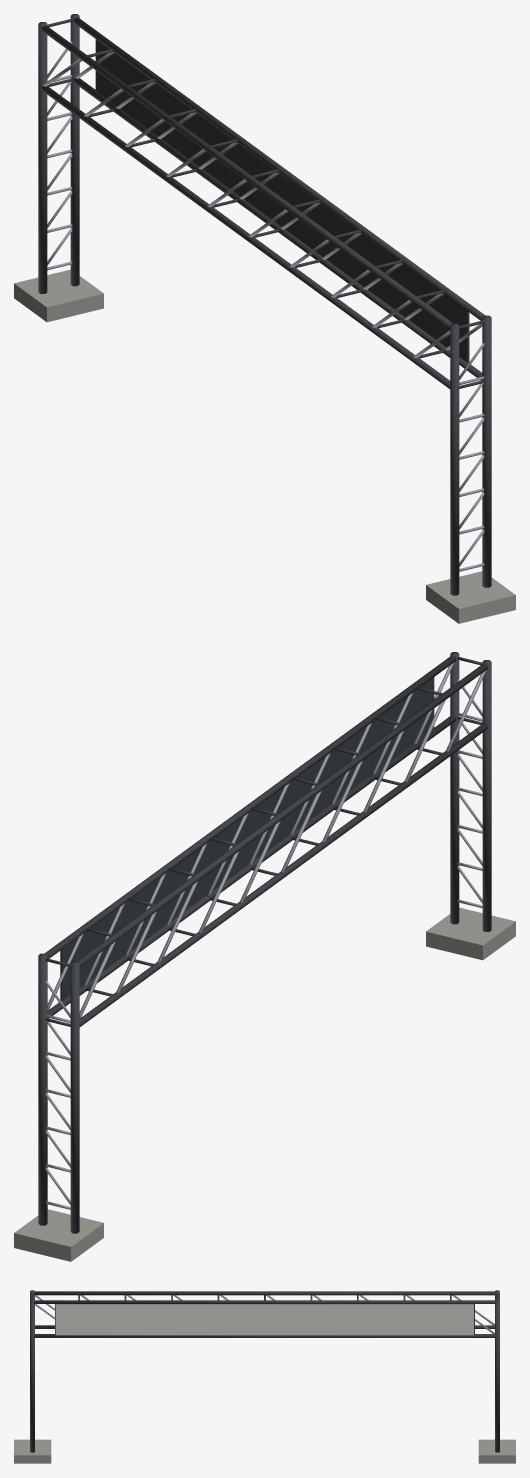
File: bridge-banner_mobile.glb
3 views of the same model, one above another, from view 1: azimuth 30°, elevation 25°; view 2: azimuth 150°, elevation 25°; view 3: azimuth 270°, elevation 25° (orthographic). The views are drawn at different scales.
Visible parts, largest first — view 1: dark-steel, galvanised, concrete; view 2: dark-steel, galvanised, concrete; view 3: board-face, dark-steel, concrete, galvanised.
Part boxes in pixels (box(x1,y1,x2,y2)): dark-steel: box(38, 14, 491, 595); galvanised: box(43, 41, 484, 571); concrete: box(14, 269, 515, 623); dark-steel: box(38, 652, 491, 1233); galvanised: box(45, 662, 486, 1209); concrete: box(14, 907, 515, 1261); board-face: box(55, 1304, 473, 1335); dark-steel: box(30, 1290, 499, 1452); concrete: box(14, 1439, 515, 1463); galvanised: box(34, 1295, 495, 1334).
Size of the model in its own units: 1.6 by 7.6 by 21.6.
Materials: 4 (3 with a texture image).
